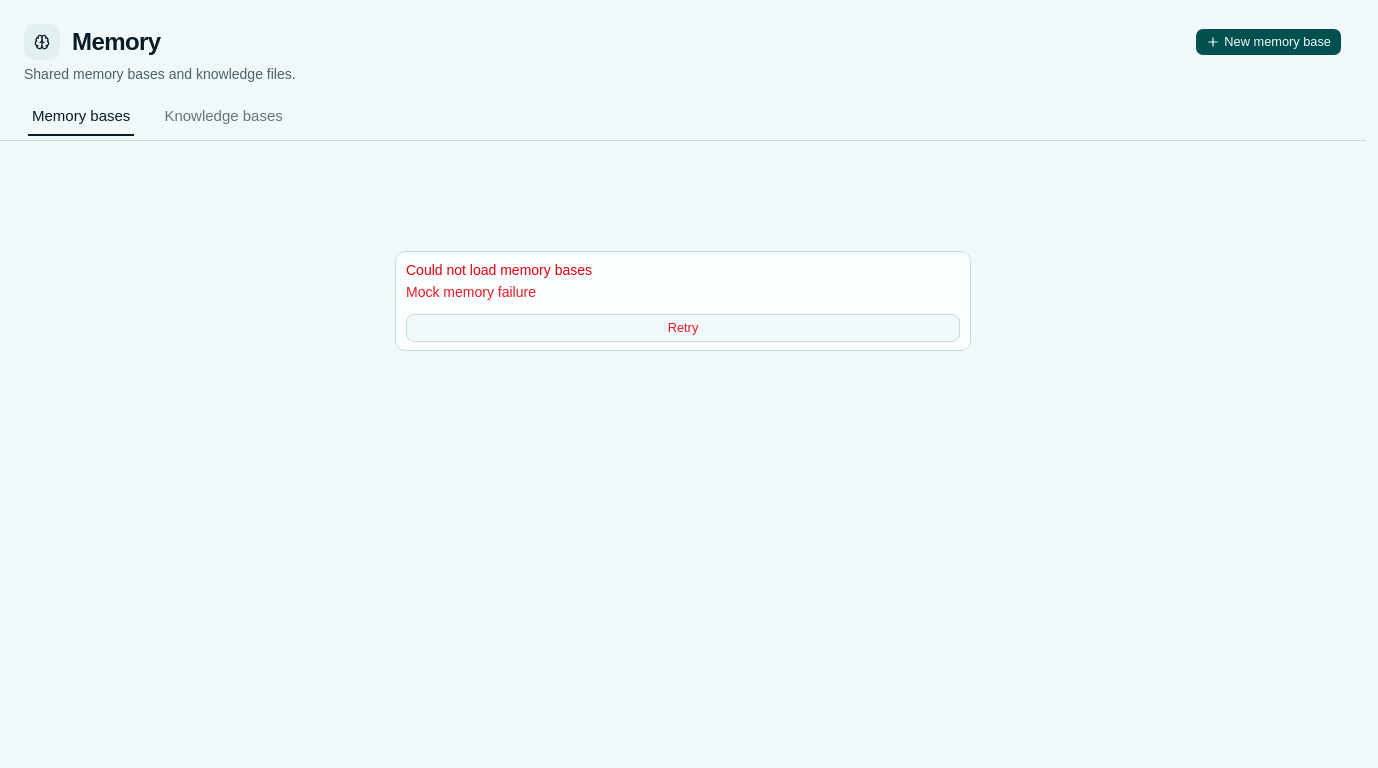
Test: MemoryPage › shows an error with retry on memory bases
Check: the text "Could not load memory bases" is shown, box [406,262,592,278]
Check: the text "Mock memory failure" is shown, box [406,284,536,300]
Click the button "Retry" at (683,328), box [406,314,960,342]
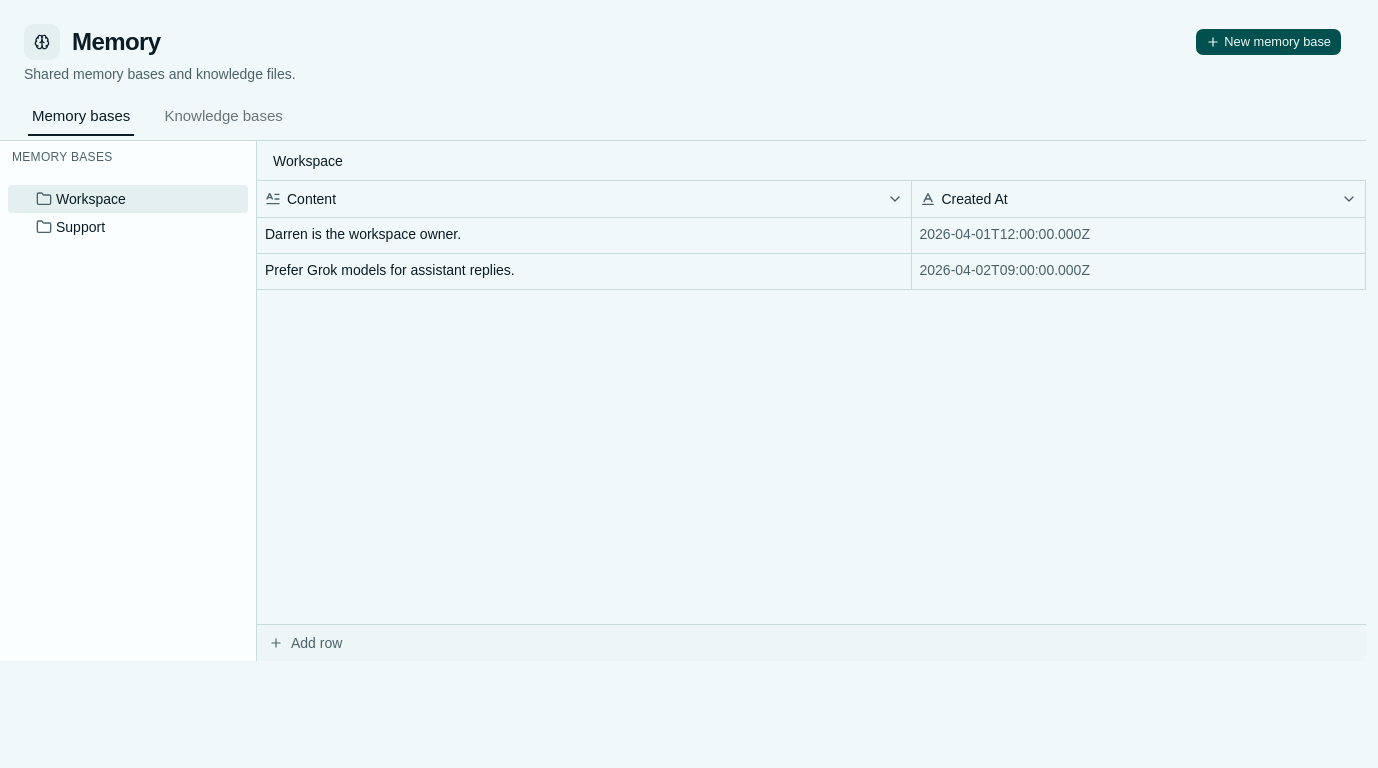
Check: the element named "Memory bases" is shown, box [0,177,256,249]
